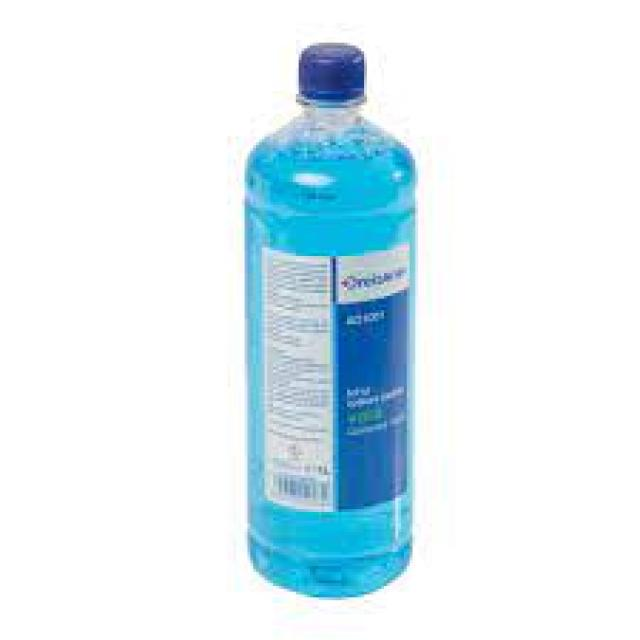winwinshield_washer: (236, 39, 425, 605)
